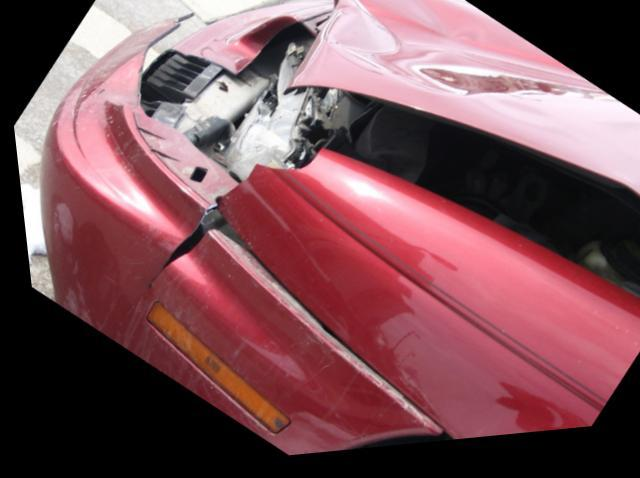crack: (136, 213, 209, 297)
dent: (326, 0, 637, 135)
dislocated part: (283, 0, 640, 317)
lamp broken: (171, 35, 337, 183)
